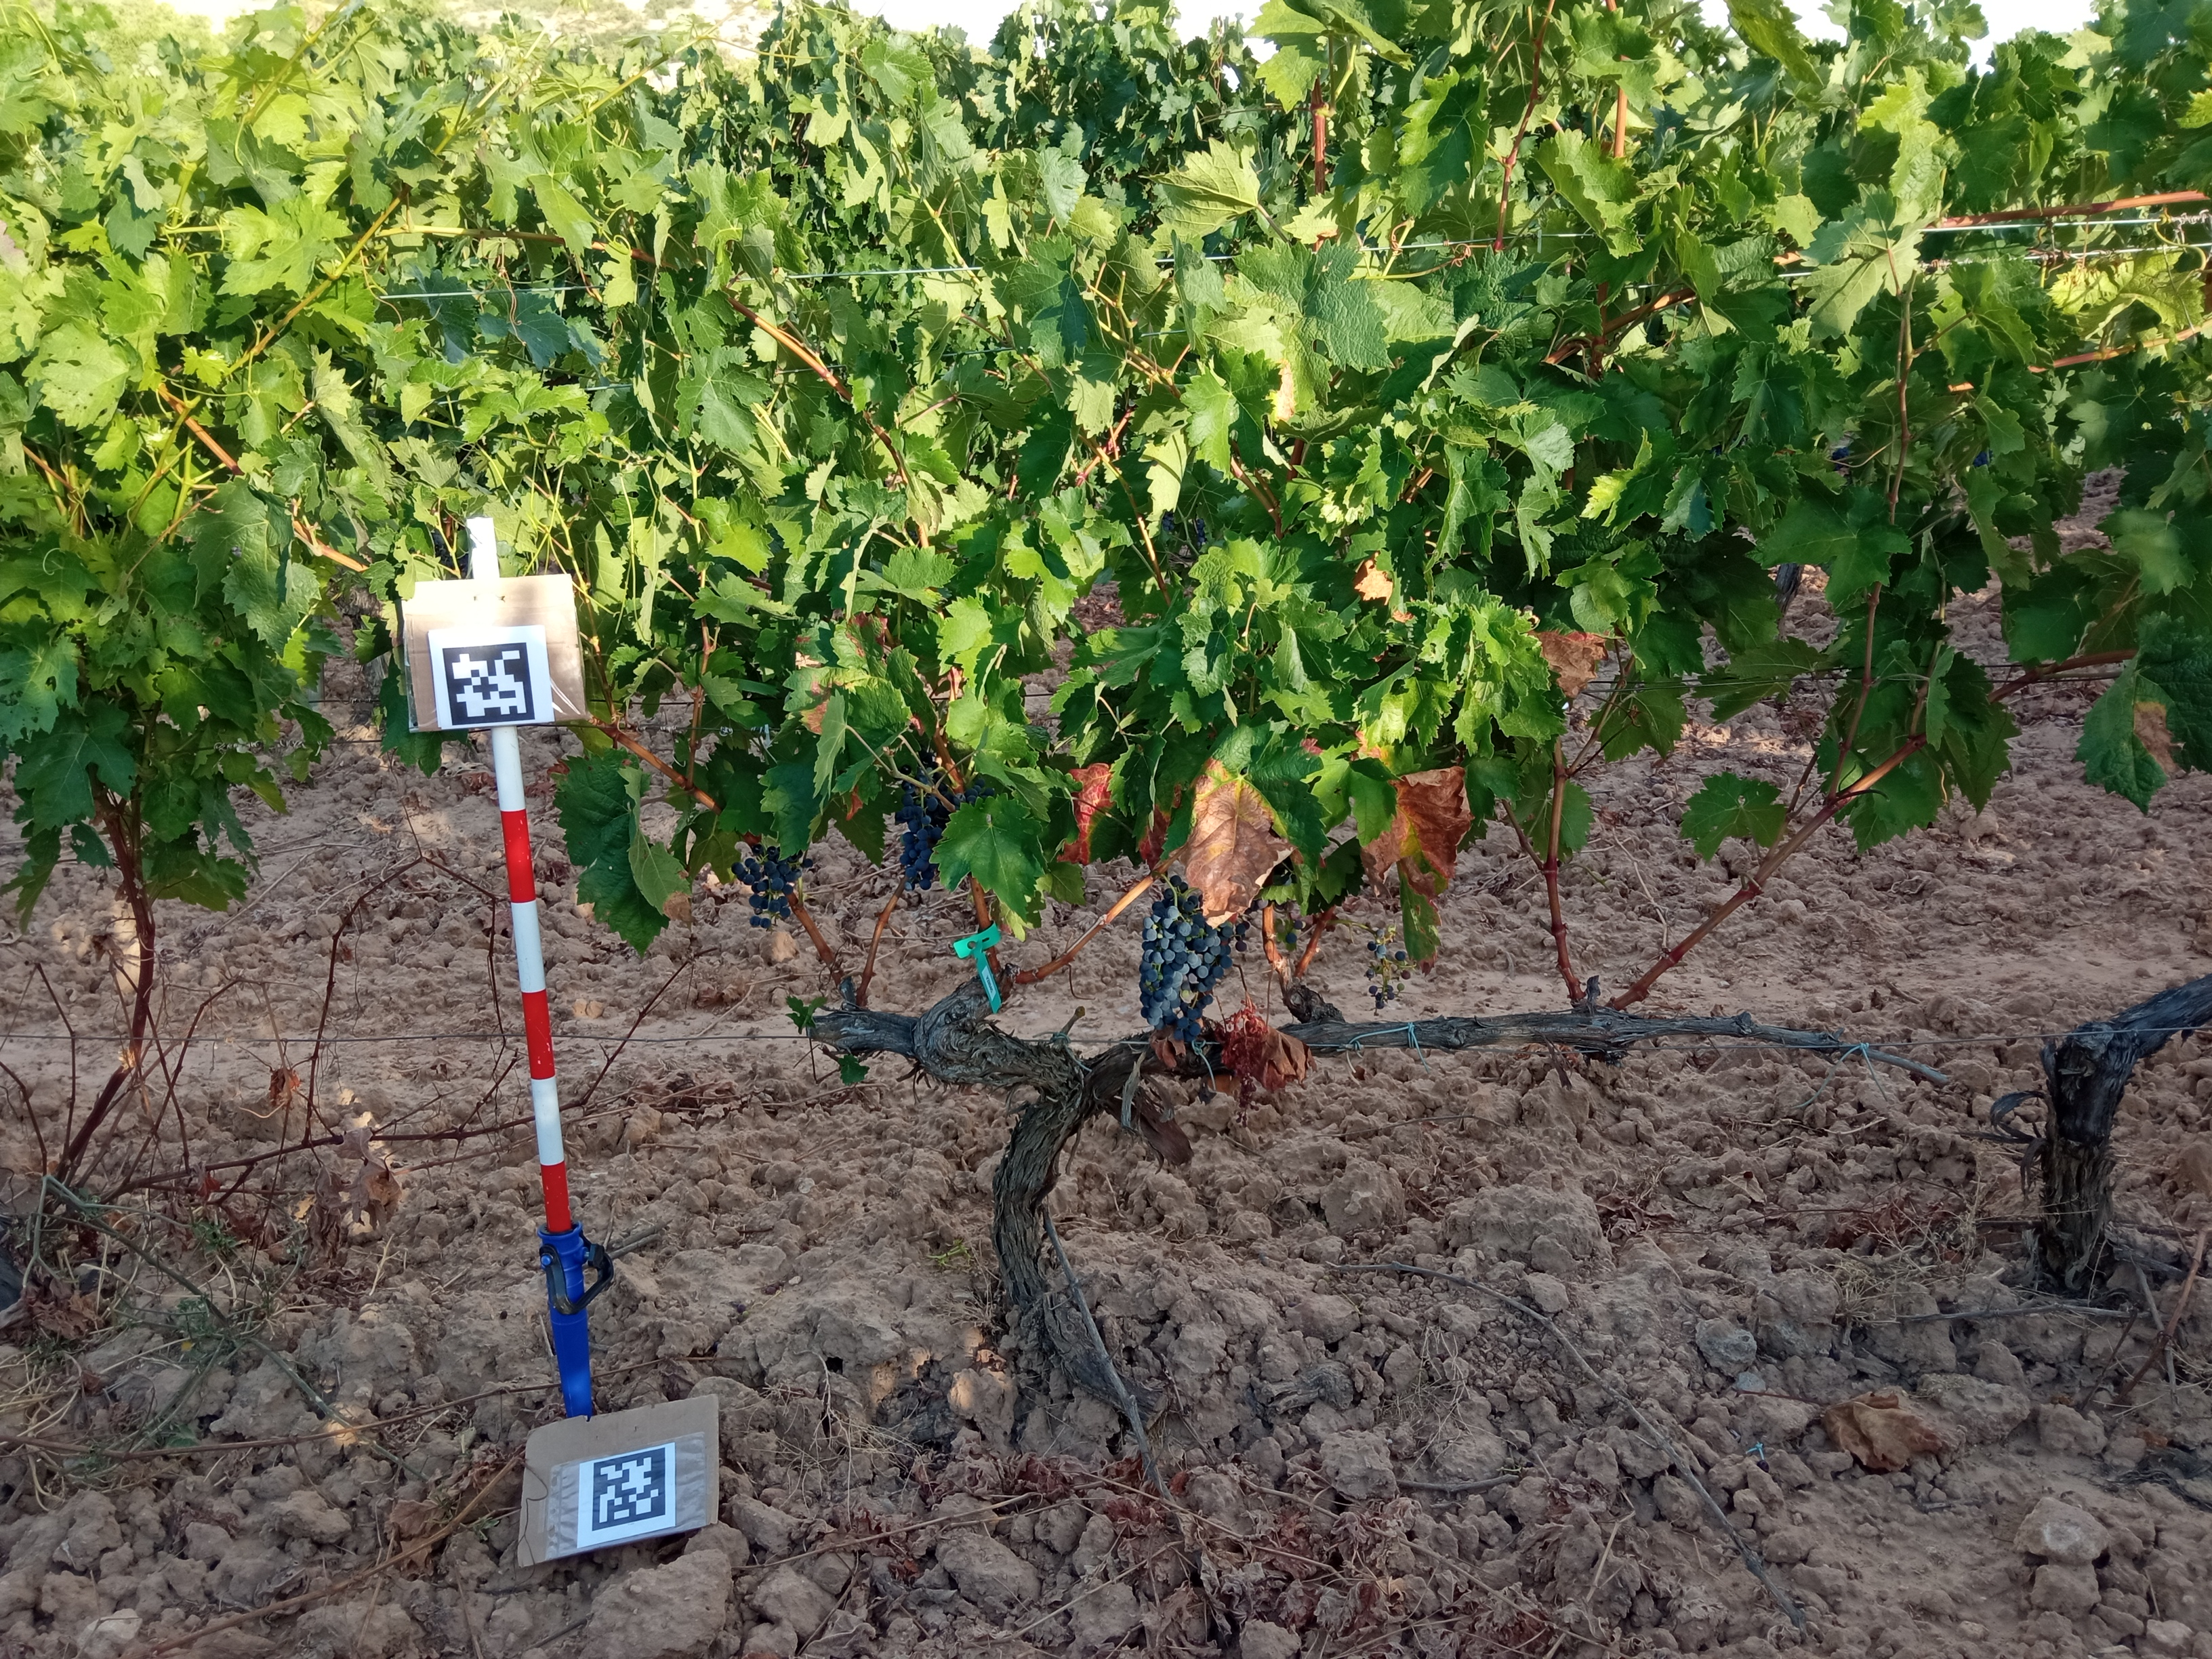grapes: (1144, 875, 1235, 1042), (737, 842, 822, 925), (900, 777, 954, 892), (960, 775, 1001, 805)
